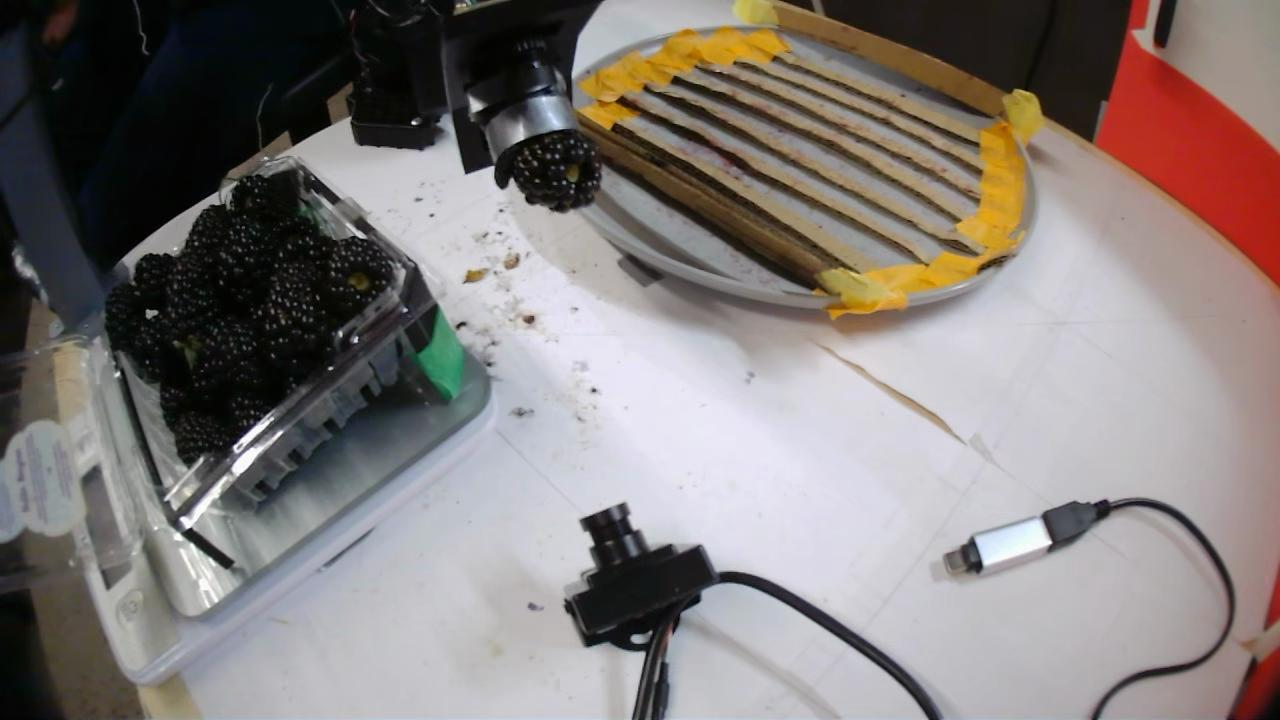berry: (262, 257, 331, 382), (317, 236, 392, 324), (517, 133, 598, 211), (221, 217, 274, 316), (168, 247, 221, 345), (193, 318, 255, 378), (171, 412, 239, 464), (228, 175, 297, 226), (126, 320, 174, 383), (180, 204, 231, 261), (105, 283, 145, 349), (227, 392, 275, 443), (133, 253, 175, 309), (276, 215, 329, 257), (159, 373, 192, 423)
